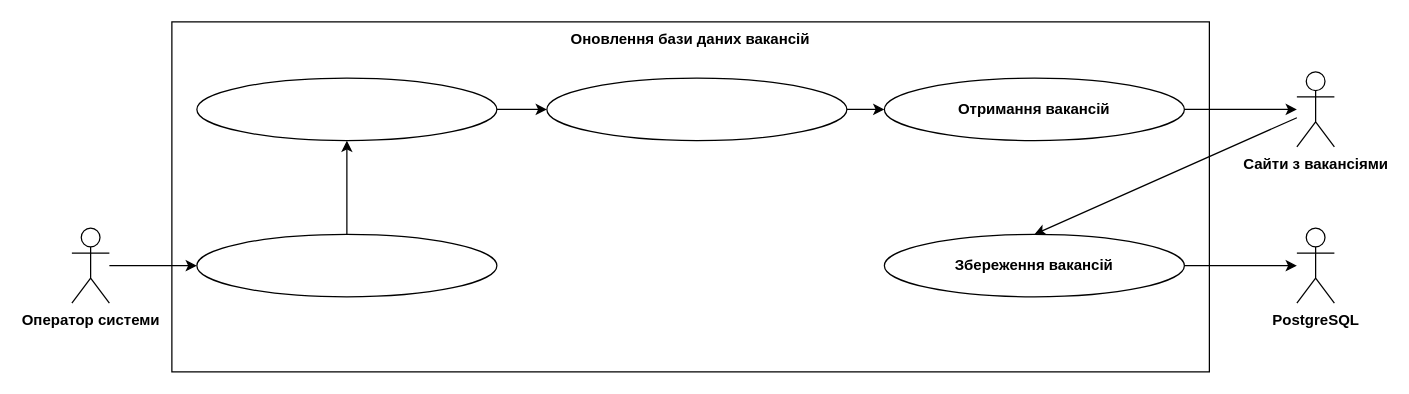
The diagram is 1409 pixels wide and 394 high, and some of its shapes have lost their labels. Here are the shapes that lost their labels. From the top down, the centre of each, then its label:
At (x=346, y=109): "Перевірка API-ключу".
At (x=696, y=109): "Запуск скраперів".
At (x=346, y=265): "Передача API-ключу".
